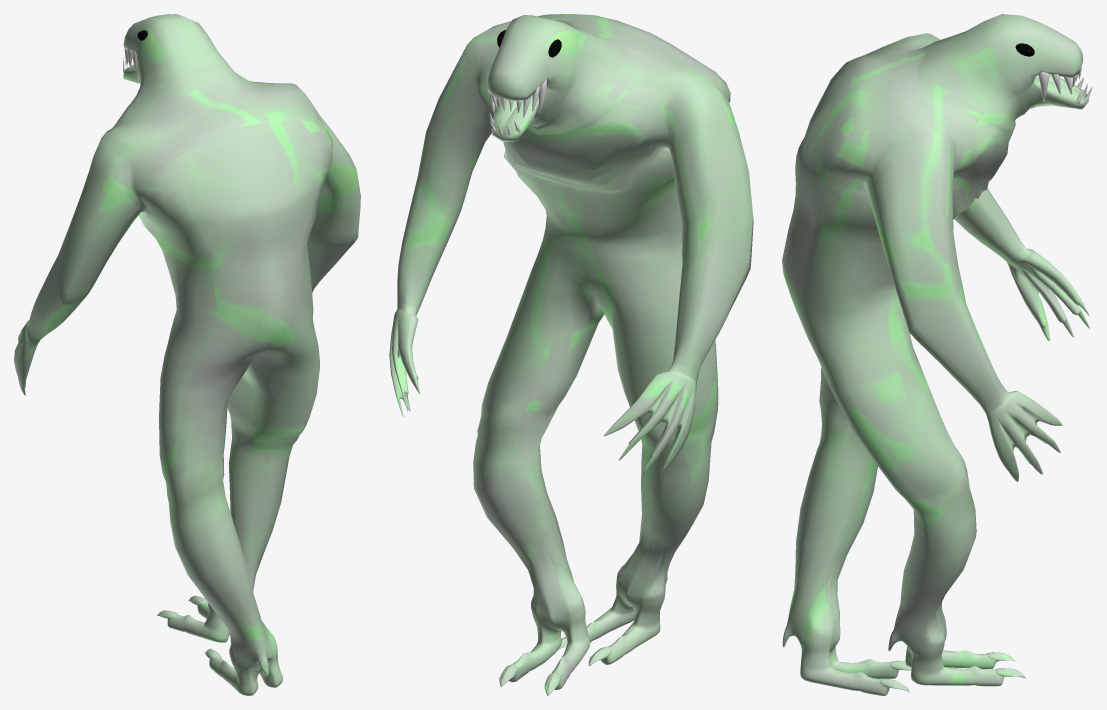
The model's file is Berserkerandar.0054.obj.
3 renders of one model, left to right at view 1: azimuth 30°, elevation 25°; view 2: azimuth 150°, elevation 25°; view 3: azimuth 270°, elevation 25°, orthographic. The views are drawn at different scales.
Visible parts, largest first — view 1: polySurface27; view 2: polySurface27; view 3: polySurface27.
Boxes of the visible parts, x1,y1,x2,y2 form: polySurface27: (14,14,360,695); polySurface27: (389,14,753,695); polySurface27: (782,14,1092,695).
Bounding box in the file's own units: 11.72 × 23.53 × 9.98.
1 material, 1 textured.
